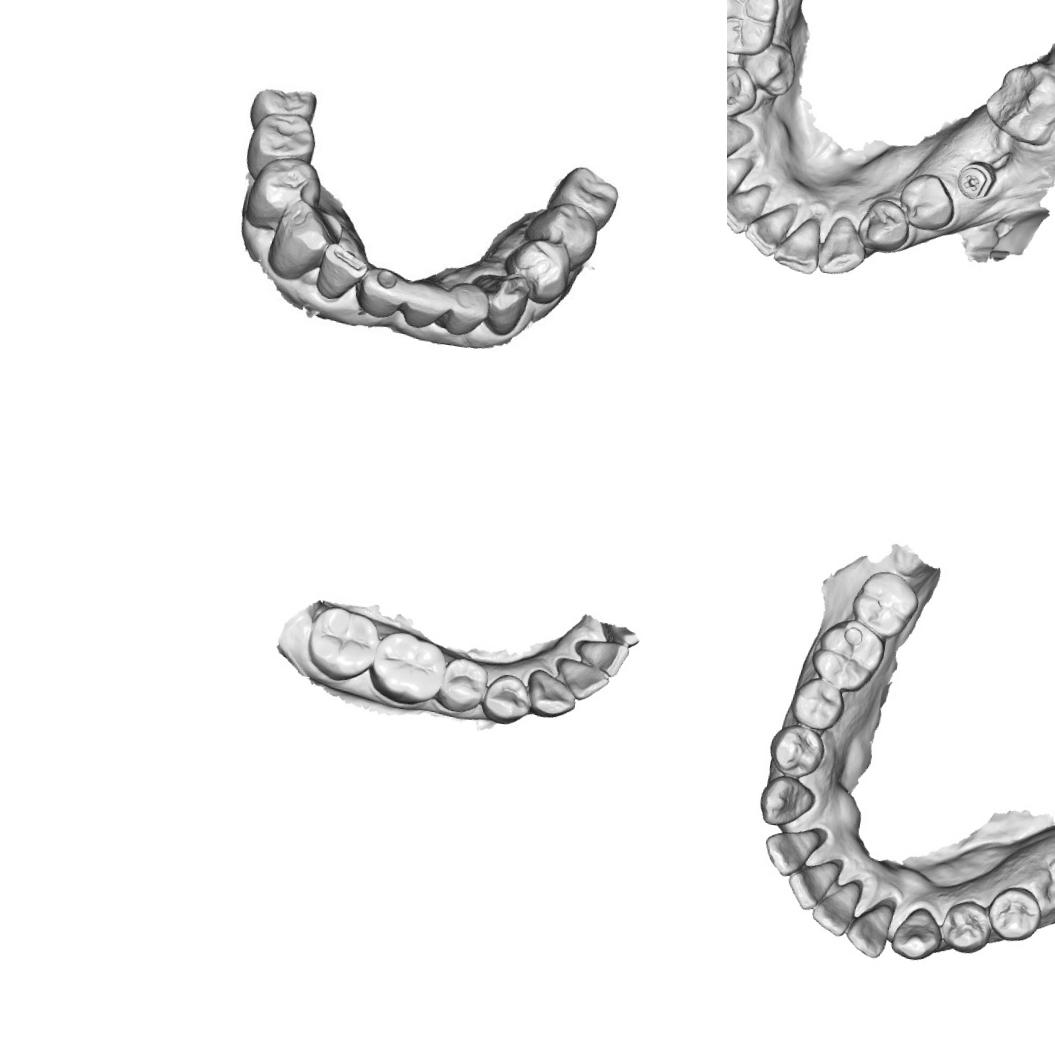canine: (261, 198, 339, 299), (477, 265, 535, 342), (813, 210, 872, 282), (755, 770, 820, 832), (888, 902, 947, 966), (520, 666, 582, 723), (727, 111, 756, 168)
implant_plus: (954, 158, 999, 204)
incisor: (759, 820, 826, 882), (770, 210, 829, 278), (740, 196, 798, 260), (808, 873, 863, 938), (784, 854, 841, 916), (843, 894, 896, 960), (550, 654, 615, 707), (356, 262, 412, 323), (443, 270, 493, 335), (727, 174, 776, 240), (570, 635, 632, 682), (315, 244, 363, 300), (404, 275, 452, 329), (727, 147, 758, 210)
molar: (976, 52, 1055, 152), (364, 626, 452, 712), (300, 600, 383, 688), (806, 613, 889, 696), (847, 566, 924, 642), (543, 160, 624, 228), (727, 0, 784, 61)
premolar: (235, 149, 326, 244), (518, 197, 607, 270), (242, 105, 322, 185), (497, 232, 577, 312), (730, 36, 801, 101), (893, 168, 961, 235), (764, 720, 830, 782), (984, 882, 1046, 946), (854, 196, 914, 258), (935, 894, 995, 956), (435, 653, 490, 718), (788, 674, 847, 732), (478, 668, 534, 728), (727, 59, 762, 122)
